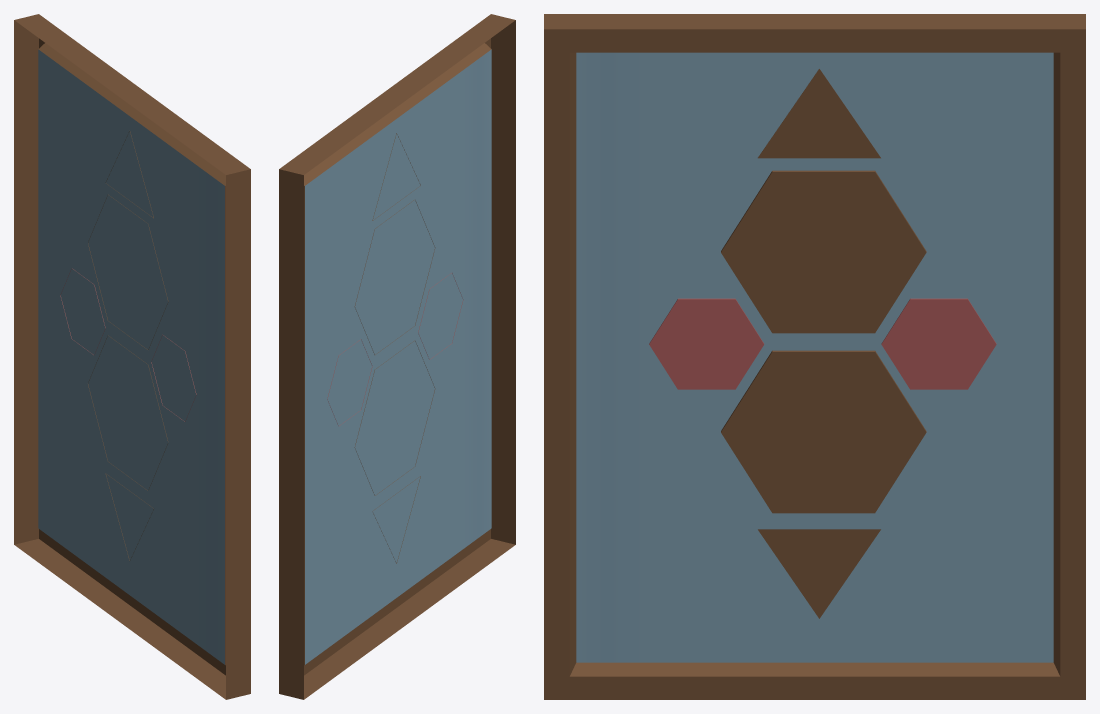
Rendered from Bedroom_Picture_2.fbx.
3 renders of one model, left to right at view 1: azimuth 30°, elevation 25°; view 2: azimuth 150°, elevation 25°; view 3: azimuth 270°, elevation 25°, orthographic. The views are drawn at different scales.
Parts seen in each view (by area): view 1: Bedroom_Picture_2; view 2: Bedroom_Picture_2; view 3: Bedroom_Picture_2.
Part boxes in pixels (<box>): Bedroom_Picture_2: <box>14,14,250,699</box>; Bedroom_Picture_2: <box>279,14,515,699</box>; Bedroom_Picture_2: <box>544,14,1085,699</box>.
Size of the model in its own units: 5.71 by 116 by 84.67.
